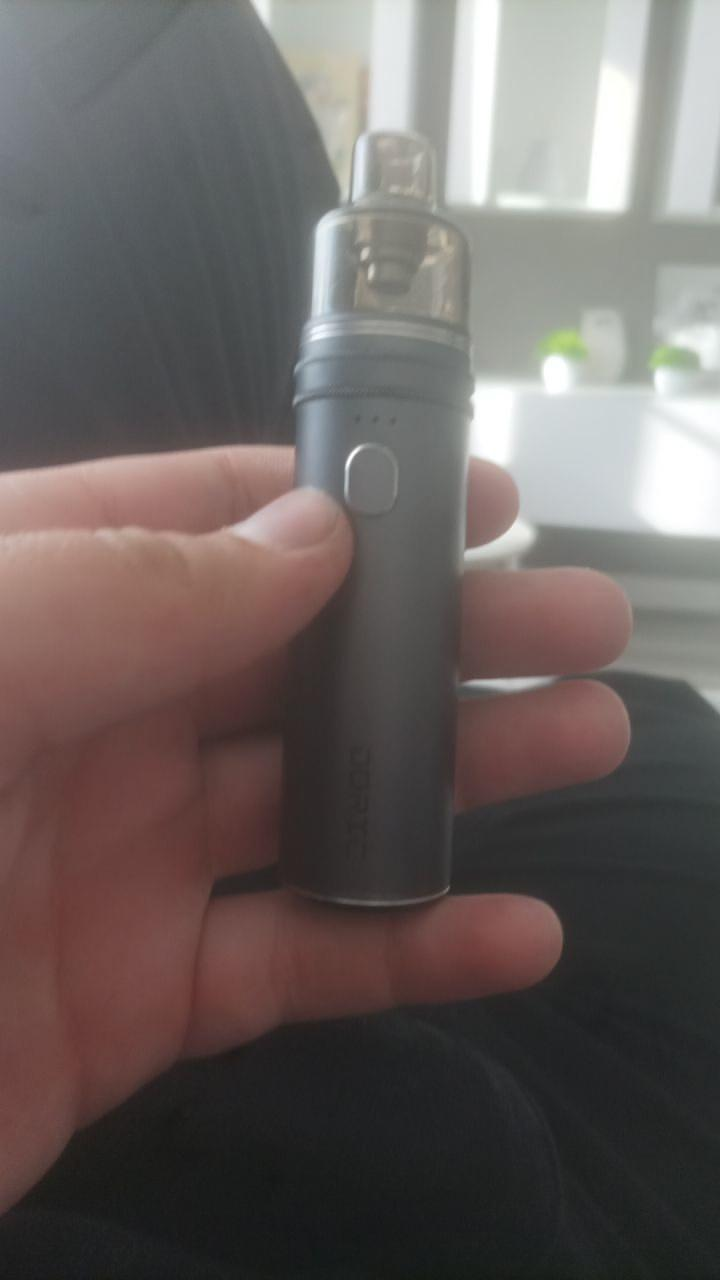Vape: (282, 132, 473, 909)
